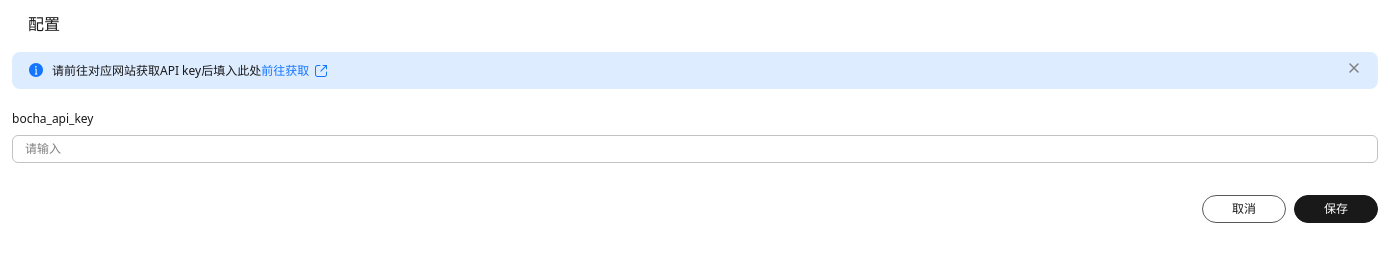
Test: SearchEngineEditView › keeps empty-input validation in the edit form
Step 1. Click the button "保存" → (1336, 209), box [1294,195,1378,223]
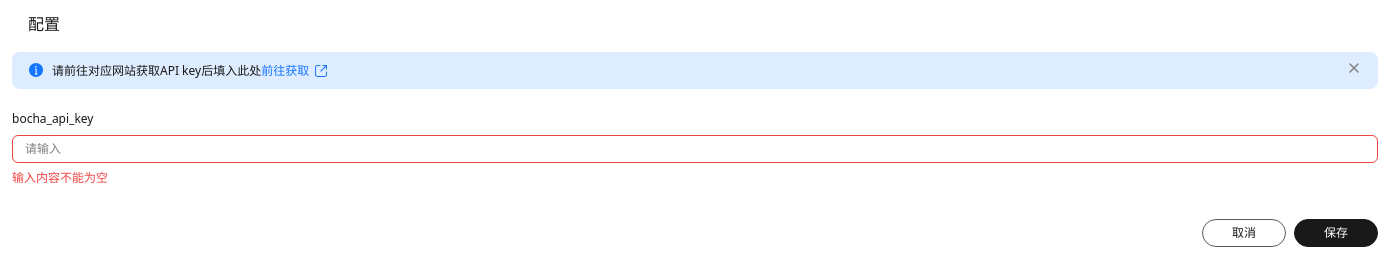
Now the text "输入内容不能为空" is shown, box [12,169,108,186]
